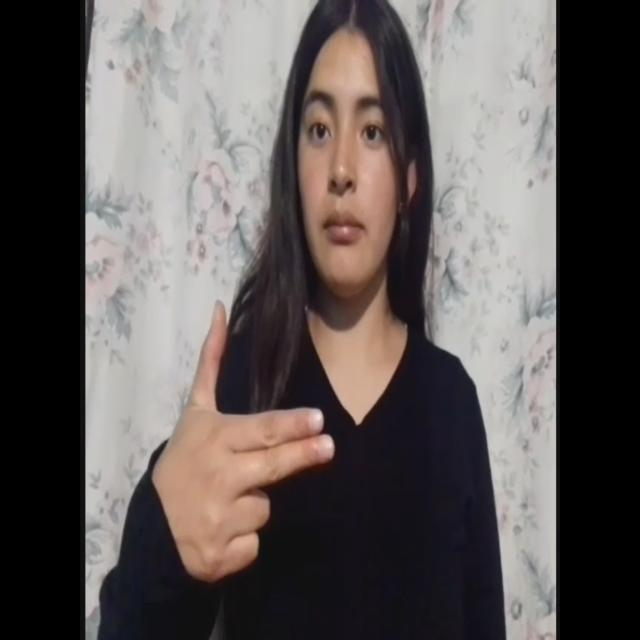H: (138, 296, 350, 596)
